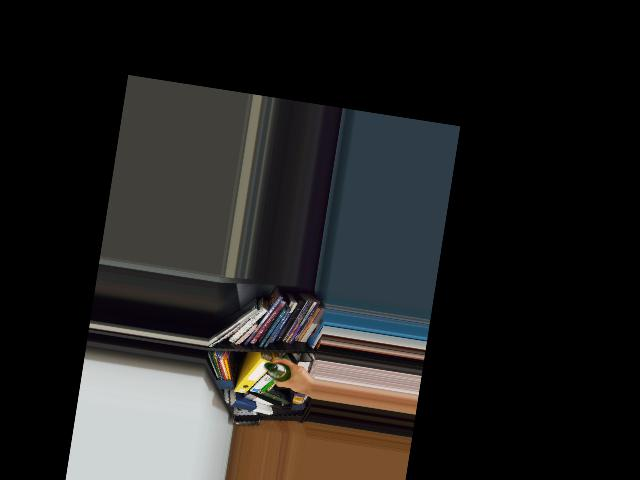beer: (262, 361, 292, 383)
